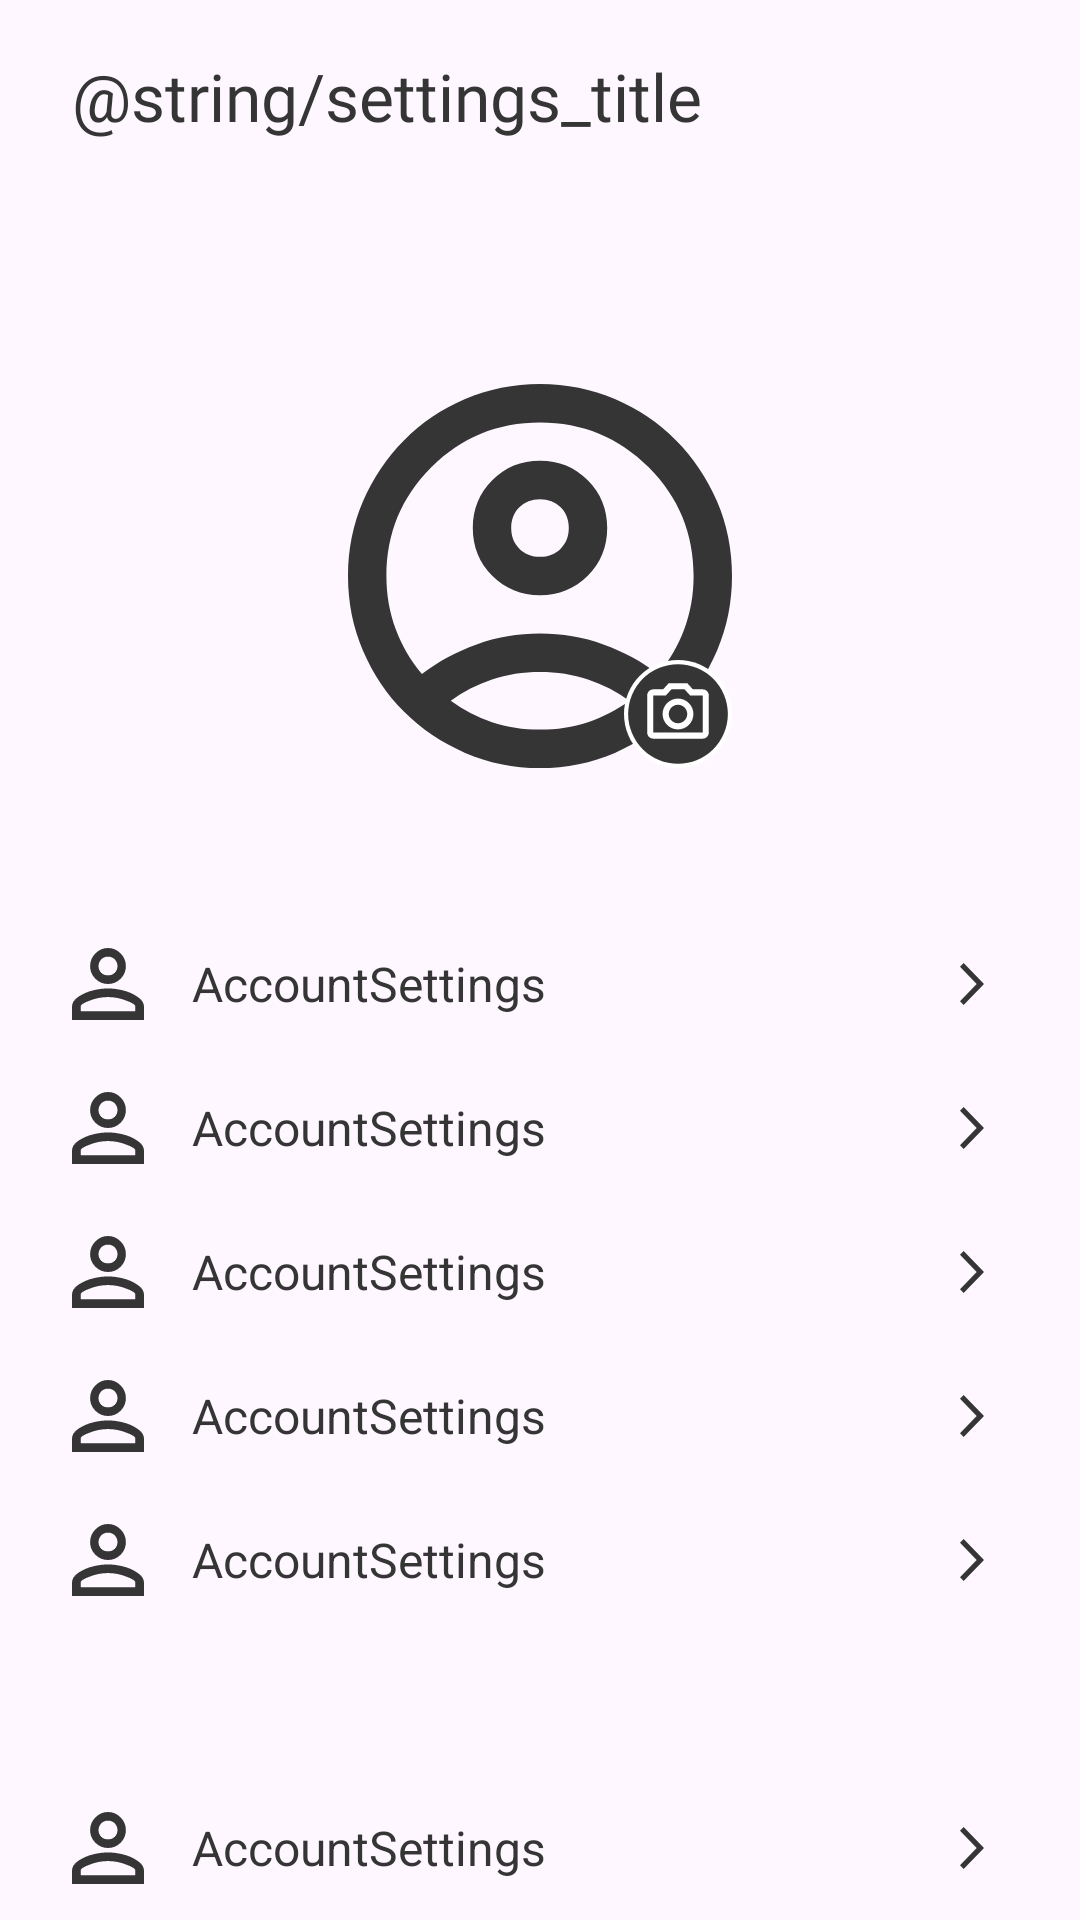

Icons on this 1080 x 1920 Android screen, each with its box as (x1, y1, x2, y2):
arrow forward: (960, 963, 984, 1005), (960, 1107, 984, 1149), (960, 1251, 984, 1293), (960, 1395, 984, 1437), (960, 1539, 984, 1581), (960, 1827, 984, 1869)
